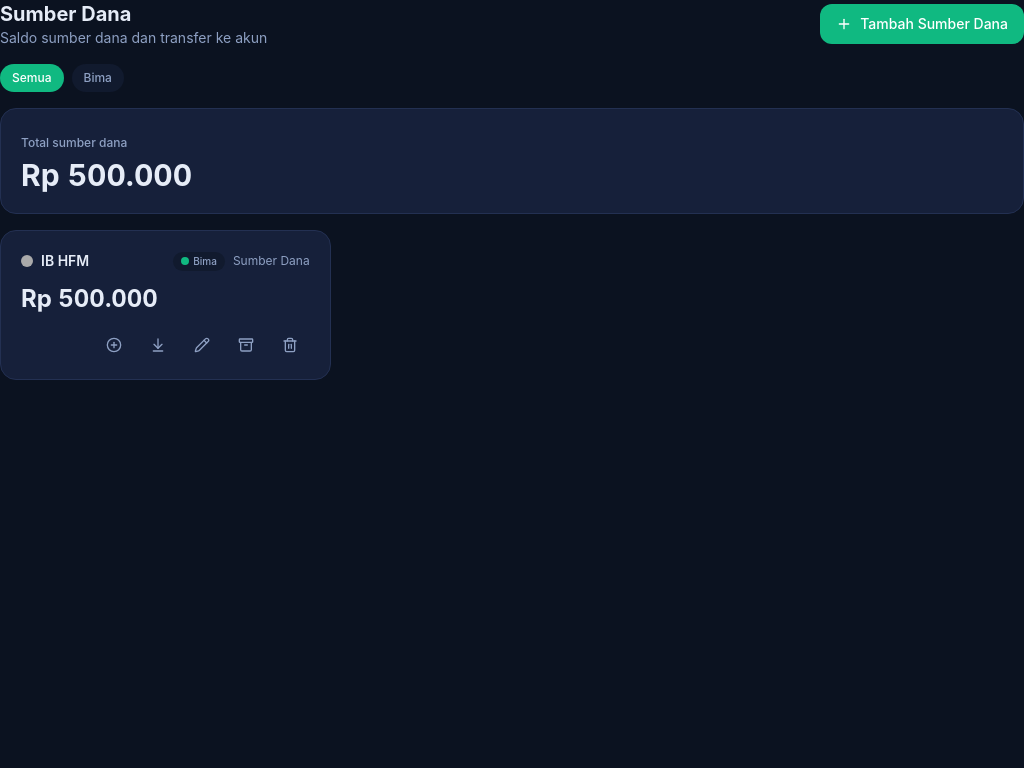
Test: FundingSourcesPage › opens the funding transfer modal from a source card transfer button
Expected: the heading "IB HFM" is shown, left=41, top=252, right=89, bottom=269
Click the button named "Transfer". click: (158, 345)
box: left=138, top=331, right=178, bottom=359
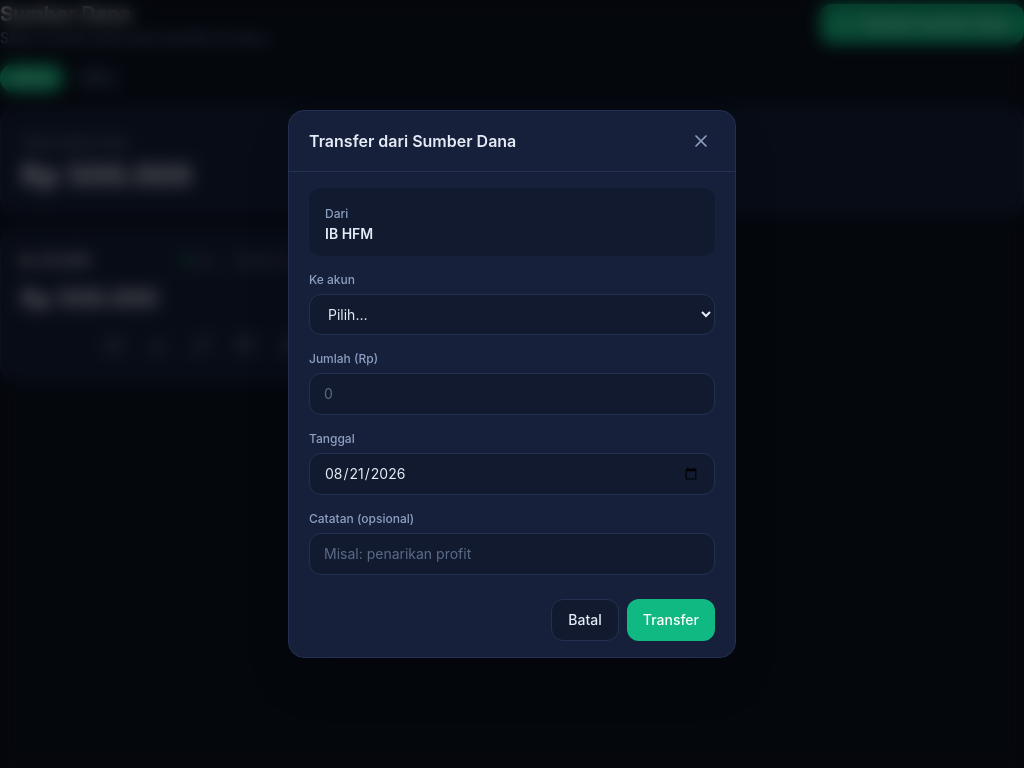
Now the heading "Transfer dari Sumber Dana" is shown, box left=309, top=129, right=516, bottom=153
